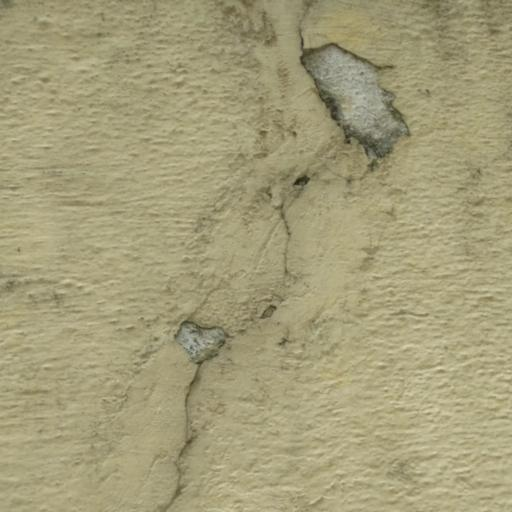peeling: (276, 0, 444, 177), (136, 300, 247, 512)
